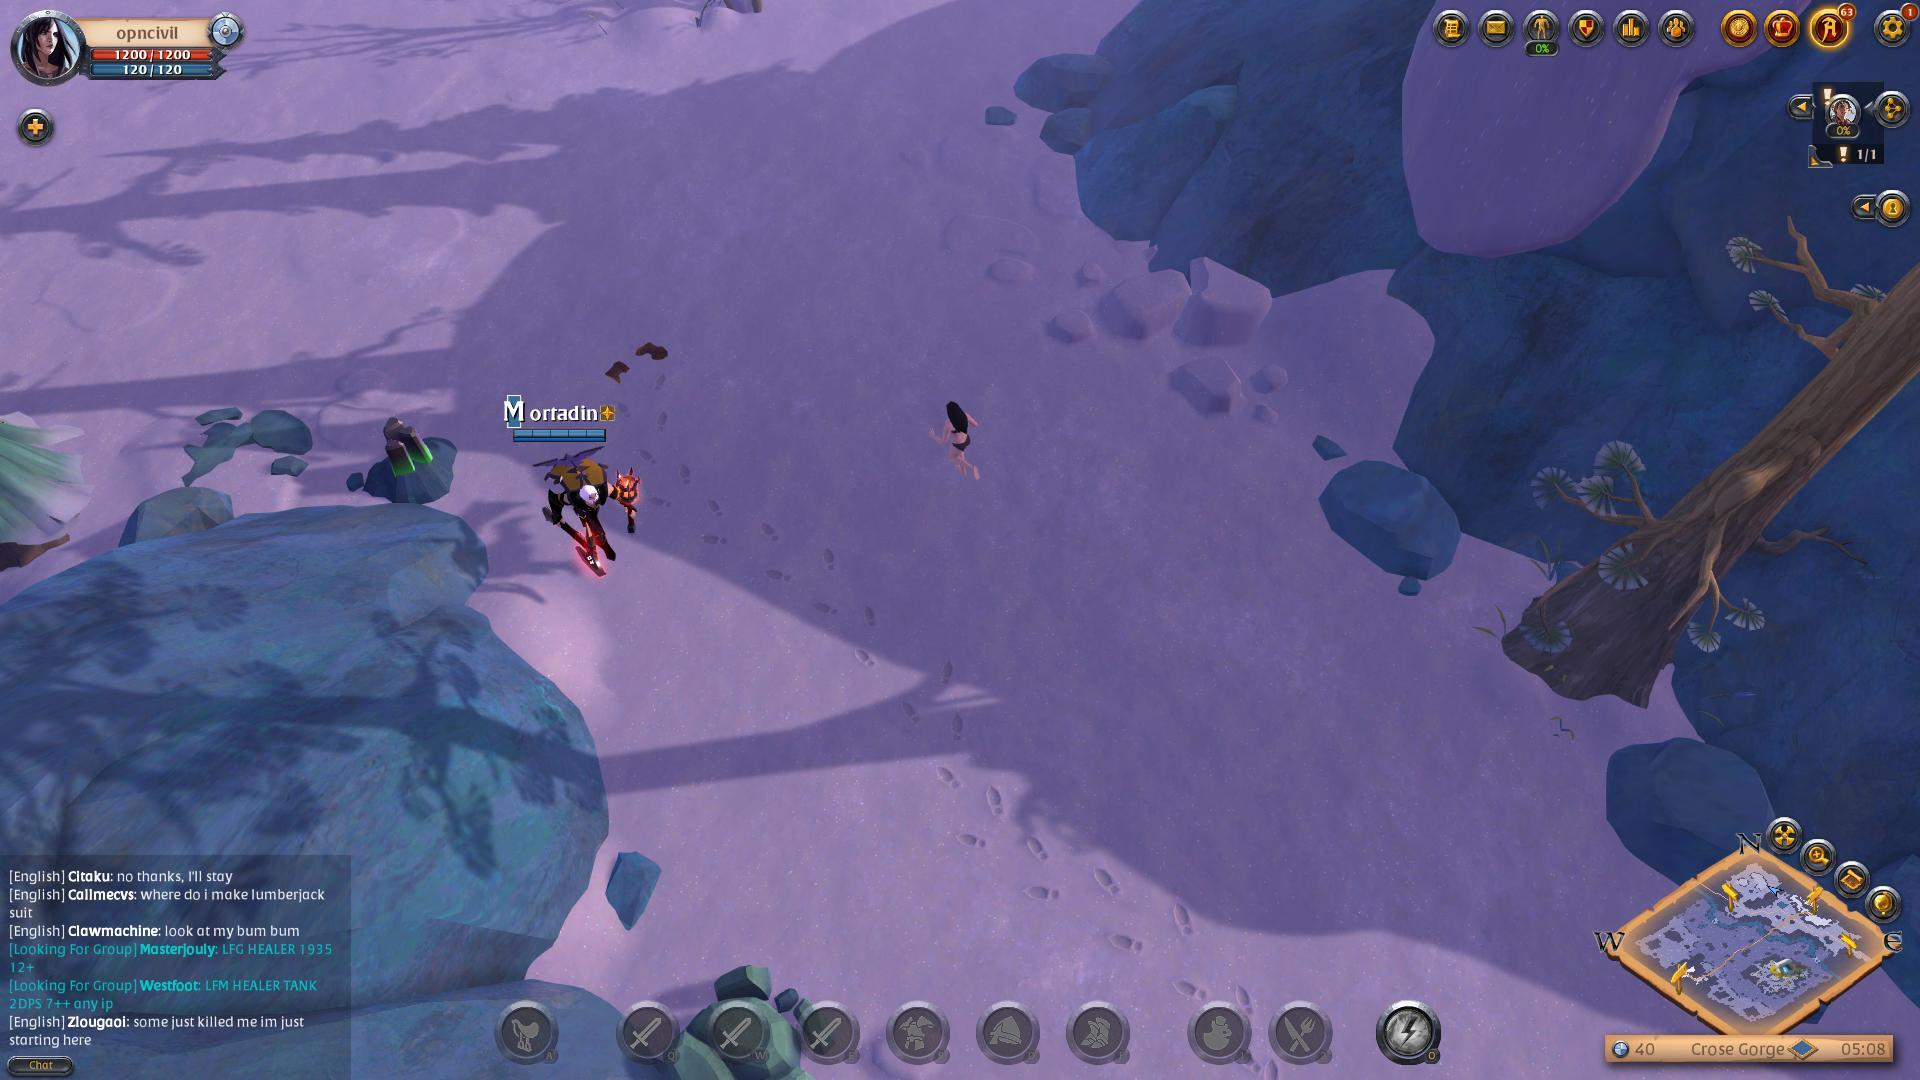tin_ore: (361, 398, 462, 509)
